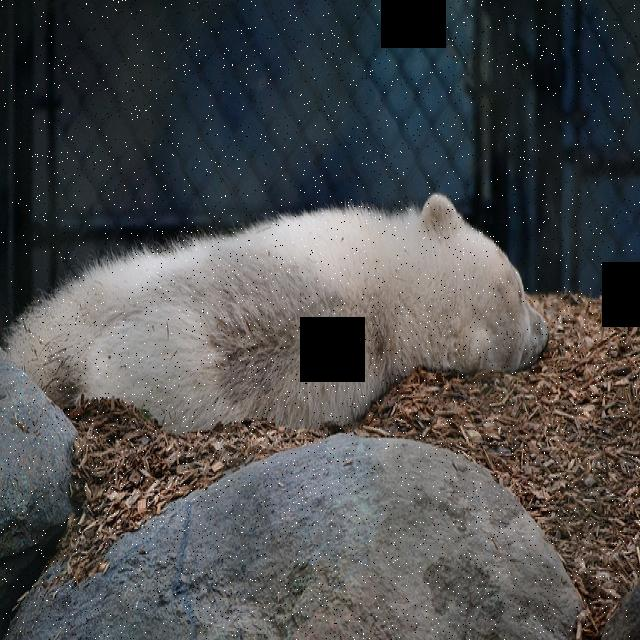Bear: (3, 187, 553, 449)
